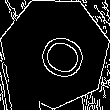O_NW: (23, 22, 86, 83)
